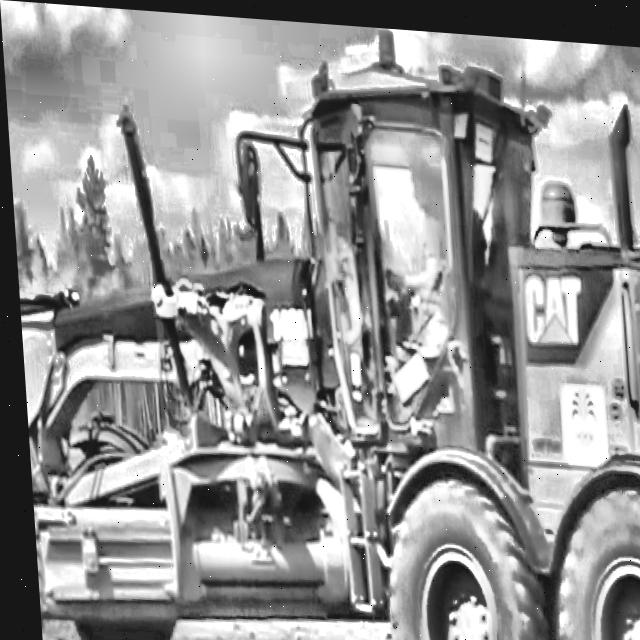buldozerpayloadergrader: (2, 34, 640, 640)
